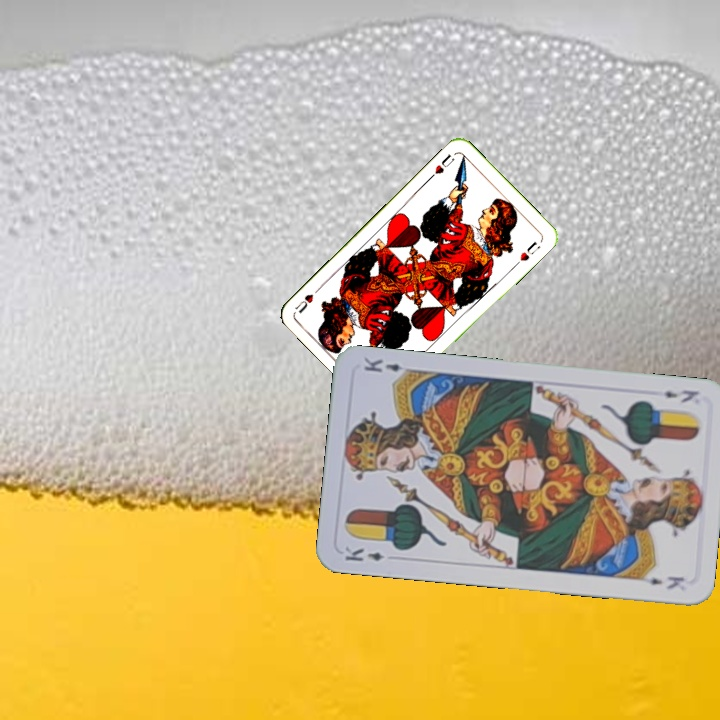EK: (341, 543, 386, 564), (660, 385, 701, 406)
HU: (431, 150, 457, 177)
